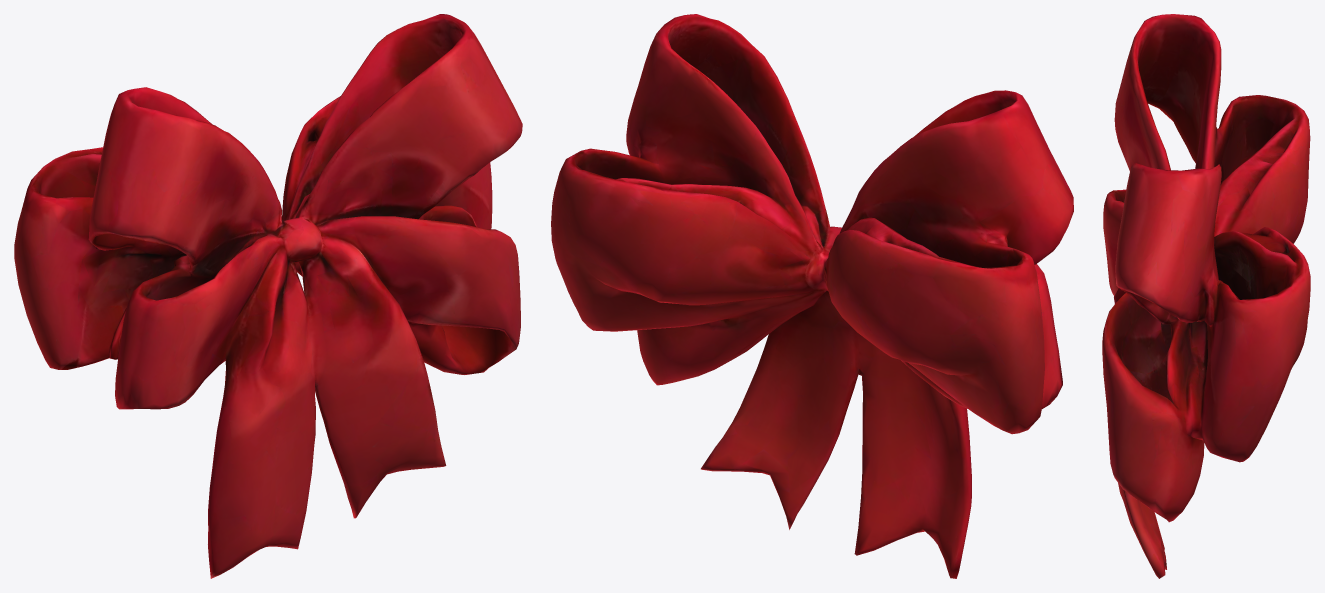
The model's file is ribbon_bow_red_prestonboy.glb.
3 views of the same model, side by side, from view 1: azimuth 30°, elevation 25°; view 2: azimuth 150°, elevation 25°; view 3: azimuth 270°, elevation 25° (orthographic). The views are drawn at different scales.
Parts seen in each view (by area): view 1: Object_4; view 2: Object_4; view 3: Object_4.
Boxes of the visible parts, x1=… form: Object_4: x1=14, y1=14, x2=522, y2=578; Object_4: x1=551, y1=14, x2=1073, y2=578; Object_4: x1=1102, y1=14, x2=1310, y2=578.
Bounding box in the file's own units: 1.99 × 1.99 × 0.8048.
Materials: 1 (1 with a texture image).
